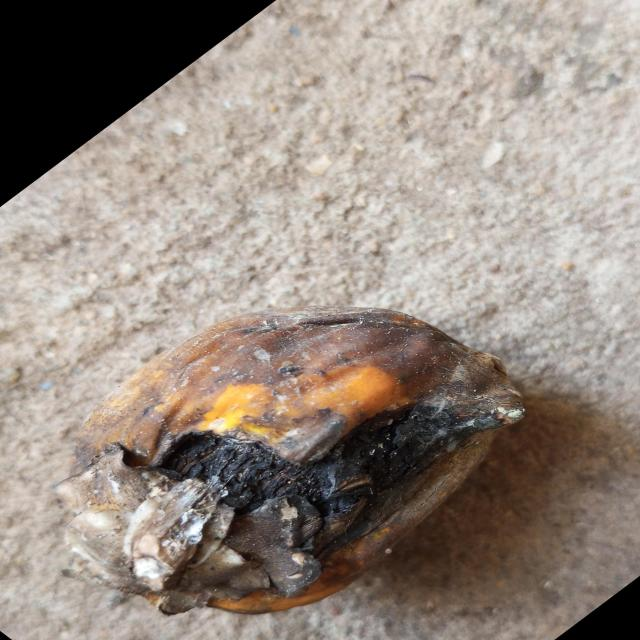damaged: (57, 308, 524, 615)
